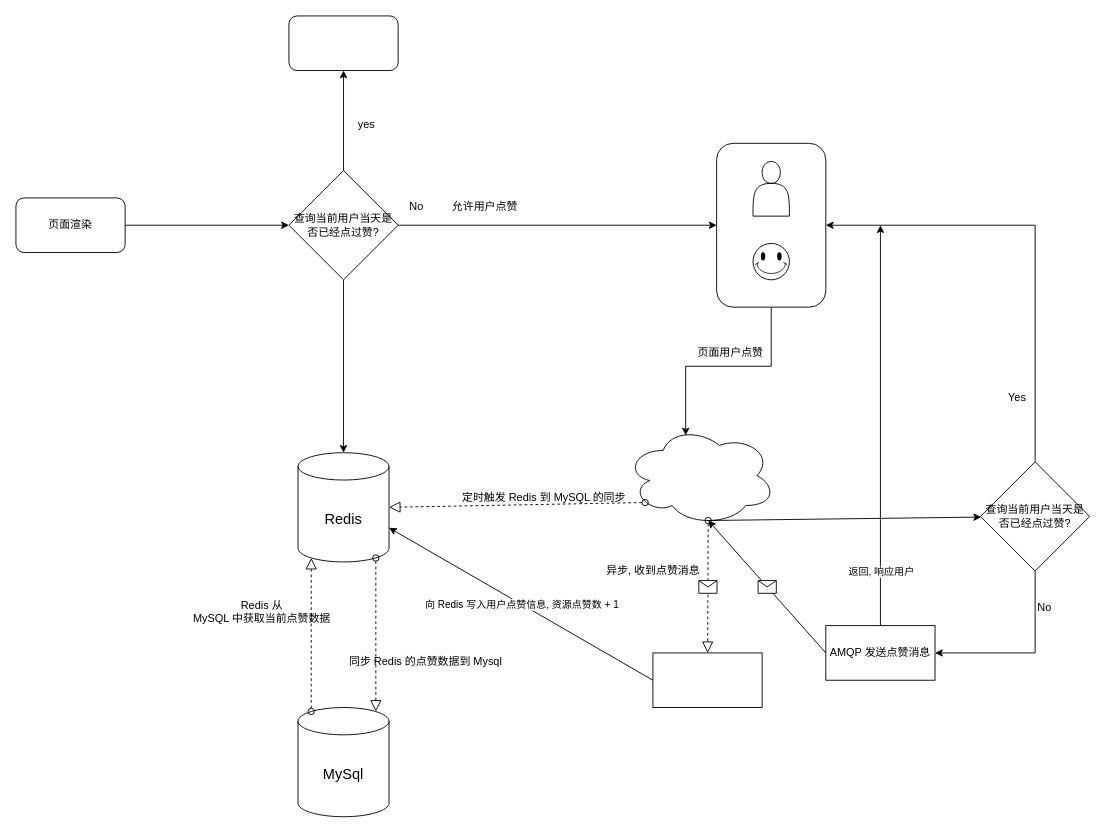
The diagram is 1106 pixels wide and 833 high, and some of its shapes have lost their labels. Here are the shapes that lost their labels. From the top down, the centre of each, then its label:
At (x=343, y=43): "显示已经点赞, 页面禁止再次点赞".
At (x=700, y=475): "jfoa 云服务器".
At (x=707, y=680): "处理点赞消息".
